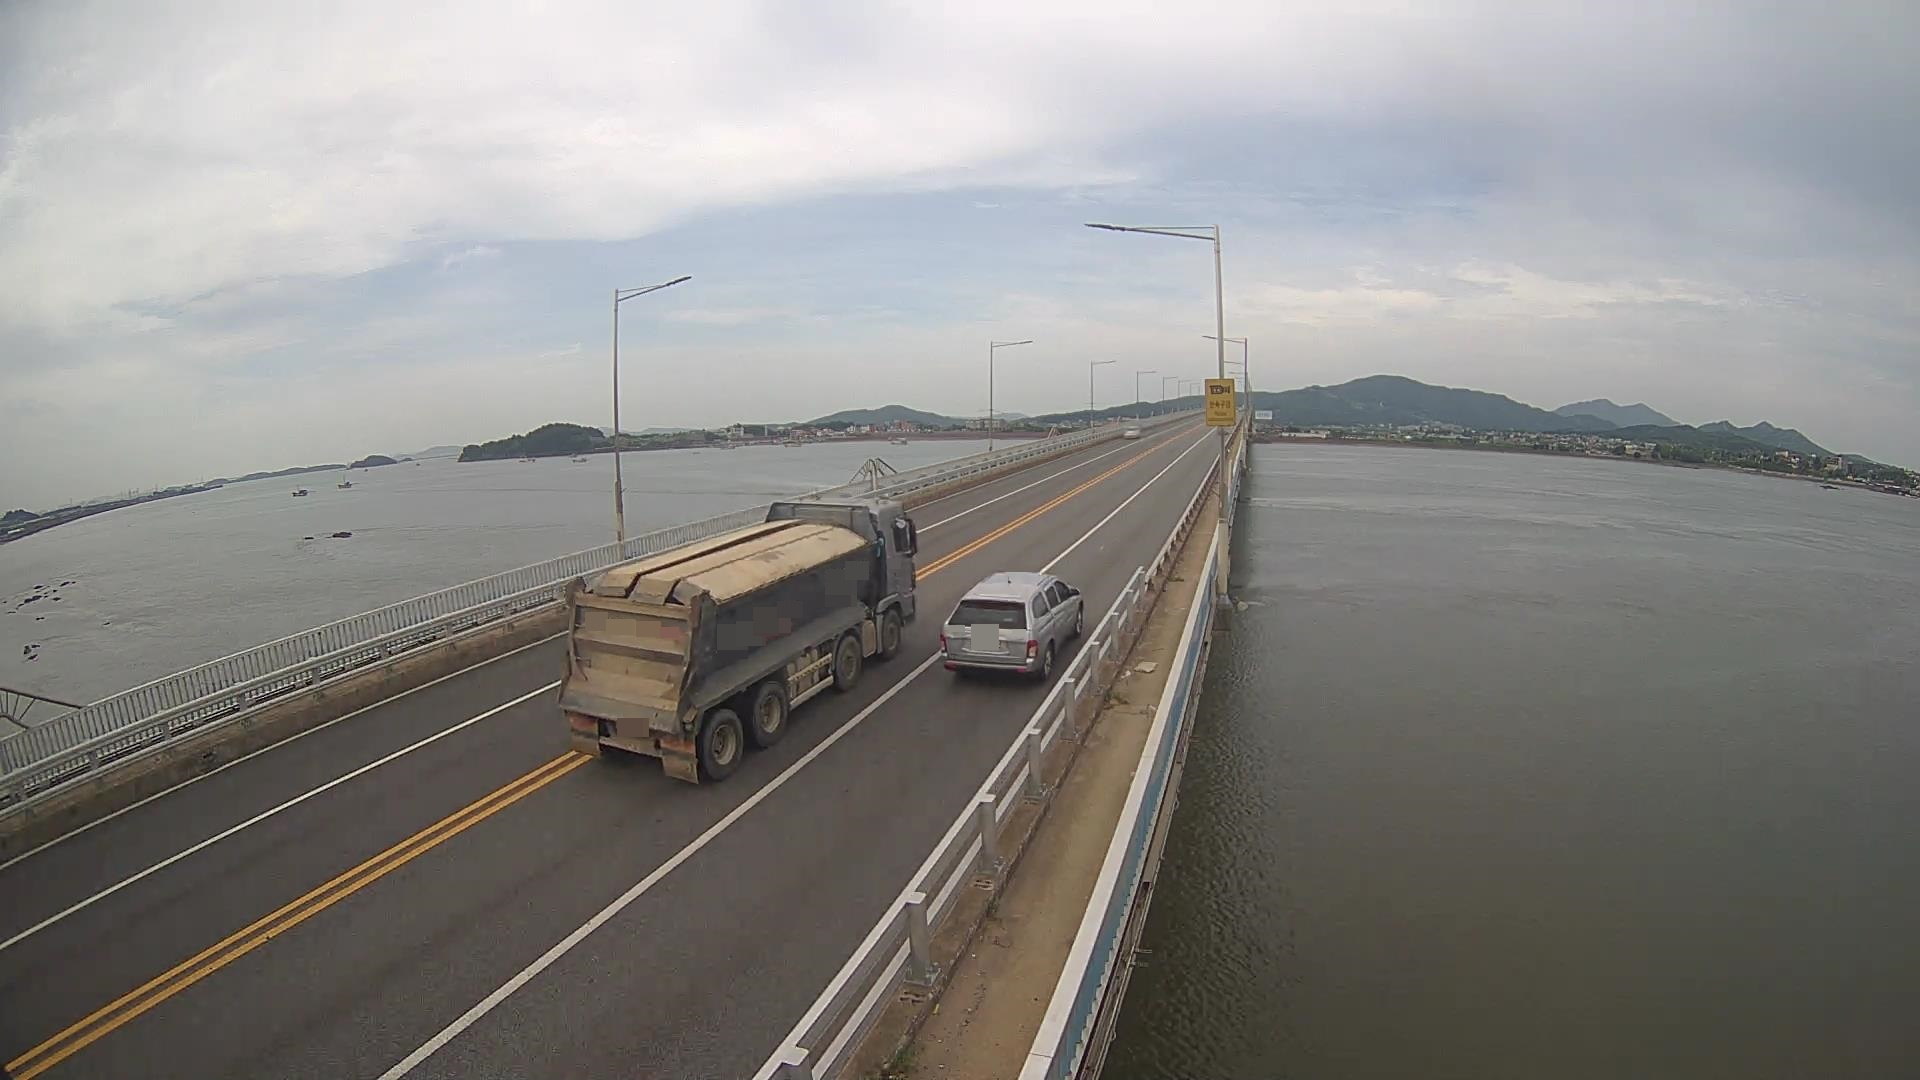정상차량: (555, 495, 919, 786)
